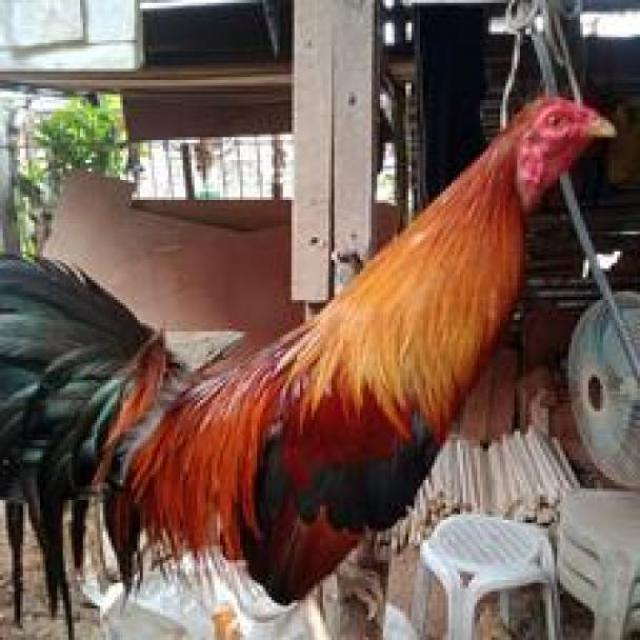Chicken: (2, 72, 621, 622)
